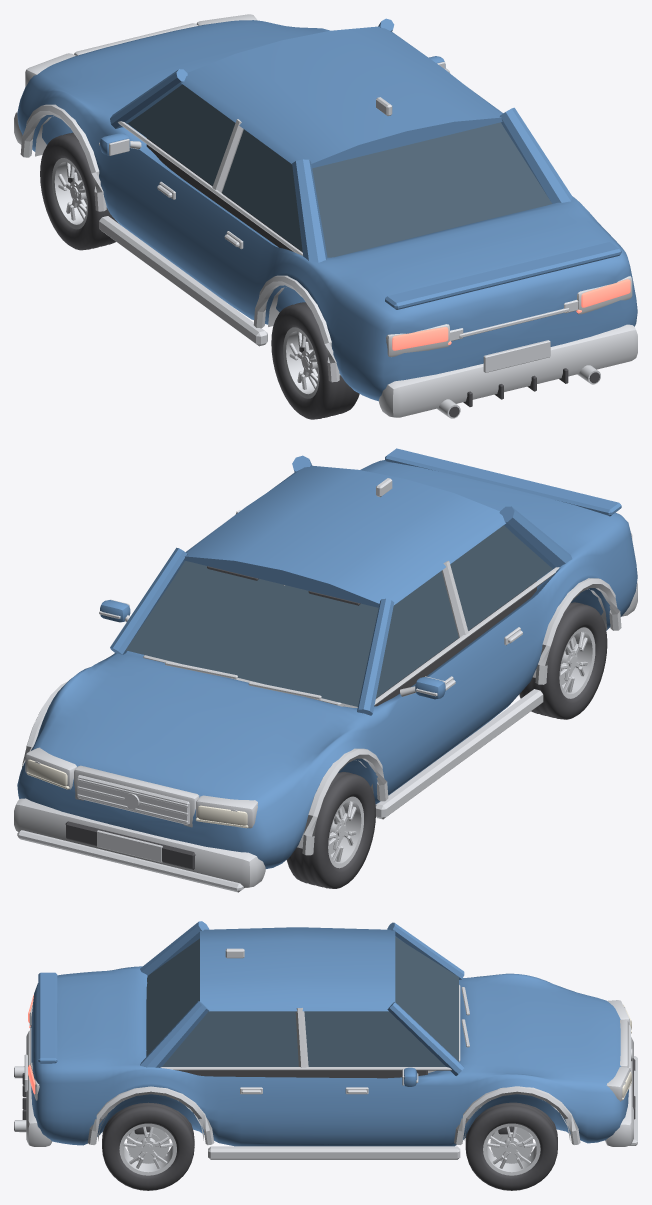
Rendered from OW_CustomerCar.fbx.
The picture shows the model from 3 angles, top to bottom: view 1: azimuth 30°, elevation 25°; view 2: azimuth 150°, elevation 25°; view 3: azimuth 270°, elevation 25°; orthographic projection. The views are drawn at different scales.
Parts seen in each view (by area): view 1: SportsCar, SportsCar_RearLeftWheel, SportsCar_FrontLeftWheel; view 2: SportsCar, SportsCar_FrontLeftWheel, SportsCar_RearLeftWheel; view 3: SportsCar, SportsCar_RearRightWheel, SportsCar_FrontRightWheel.
Part boxes in pixels (x1,y1,x2,y2): SportsCar: [14, 14, 637, 418]; SportsCar_RearLeftWheel: [271, 302, 359, 419]; SportsCar_FrontLeftWheel: [40, 132, 118, 250]; SportsCar: [14, 448, 637, 892]; SportsCar_FrontLeftWheel: [287, 772, 375, 888]; SportsCar_RearLeftWheel: [519, 602, 607, 719]; SportsCar: [14, 921, 637, 1159]; SportsCar_RearRightWheel: [102, 1102, 194, 1190]; SportsCar_FrontRightWheel: [465, 1102, 557, 1190].
Size of the model in its own units: 2.28 by 1.54 by 4.6.
